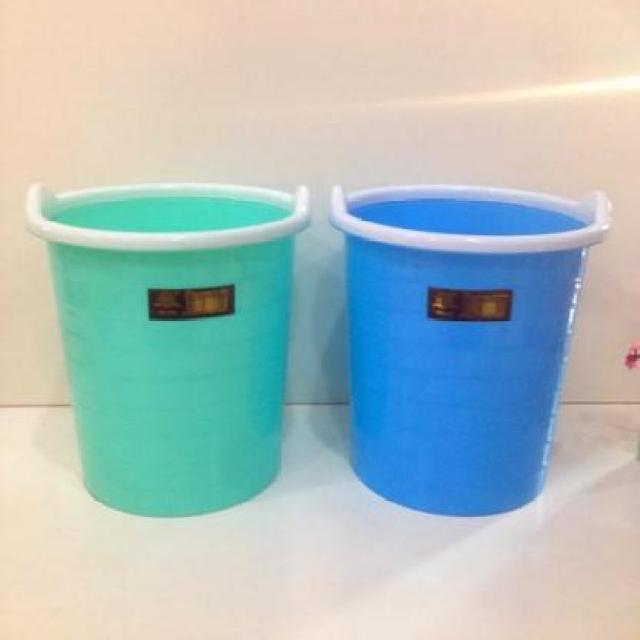dustbin: (20, 177, 320, 522), (323, 180, 616, 521)
